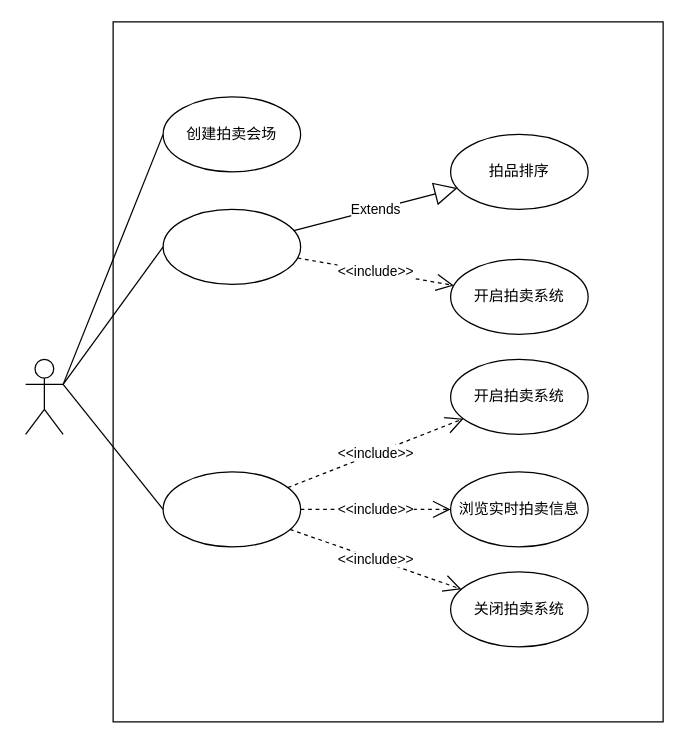
Image size: 685x744. Some labels were removed from this diagram. The shapes that lost their labels are listed below. From the top down, each one's centre as x and y in pixels, then its label:
pixel 231 246: 编辑会场信息
pixel 43 396: 拍卖师
pixel 231 509: 主持拍品拍卖
